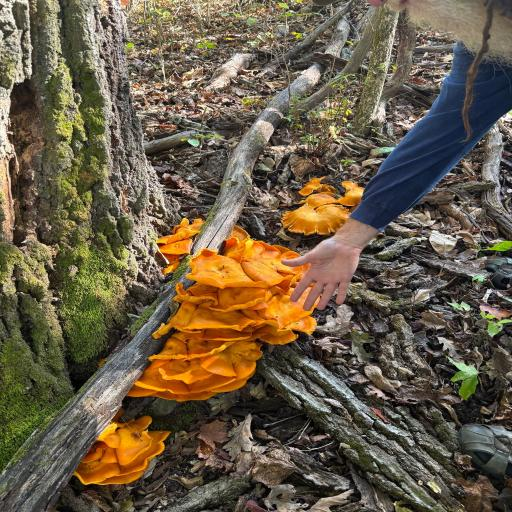Jack O Lantern Mushroom: (81, 208, 348, 442), (70, 399, 178, 512), (284, 179, 363, 235), (152, 215, 217, 275)
